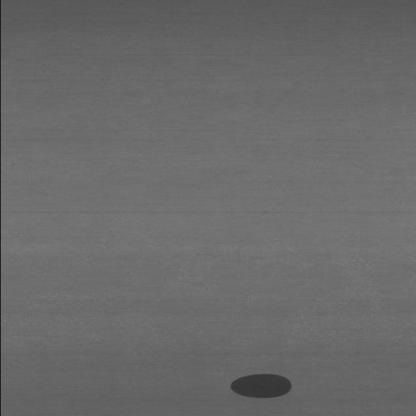oil_spot: (210, 369, 302, 403)
